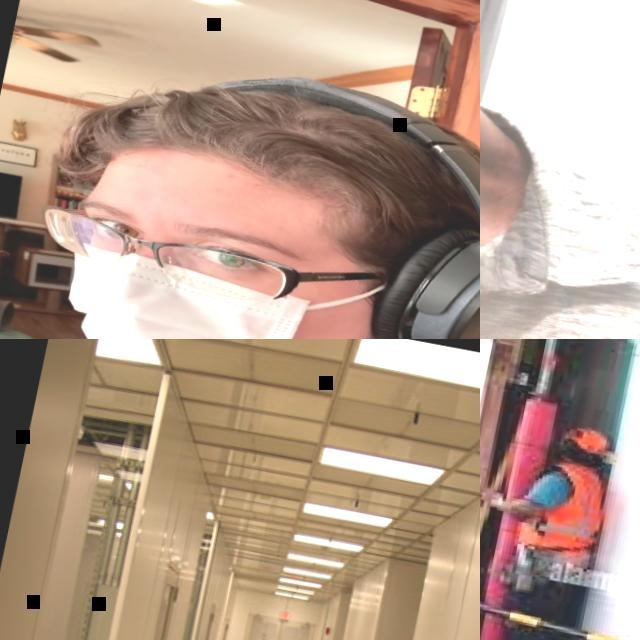Mask: (38, 237, 391, 339)
NO-Hardhat: (60, 33, 480, 238), (563, 424, 614, 453)
NO-Safety Vest: (480, 91, 640, 339), (516, 456, 617, 564)
Person: (0, 16, 480, 339), (480, 0, 640, 339), (480, 406, 629, 640)
